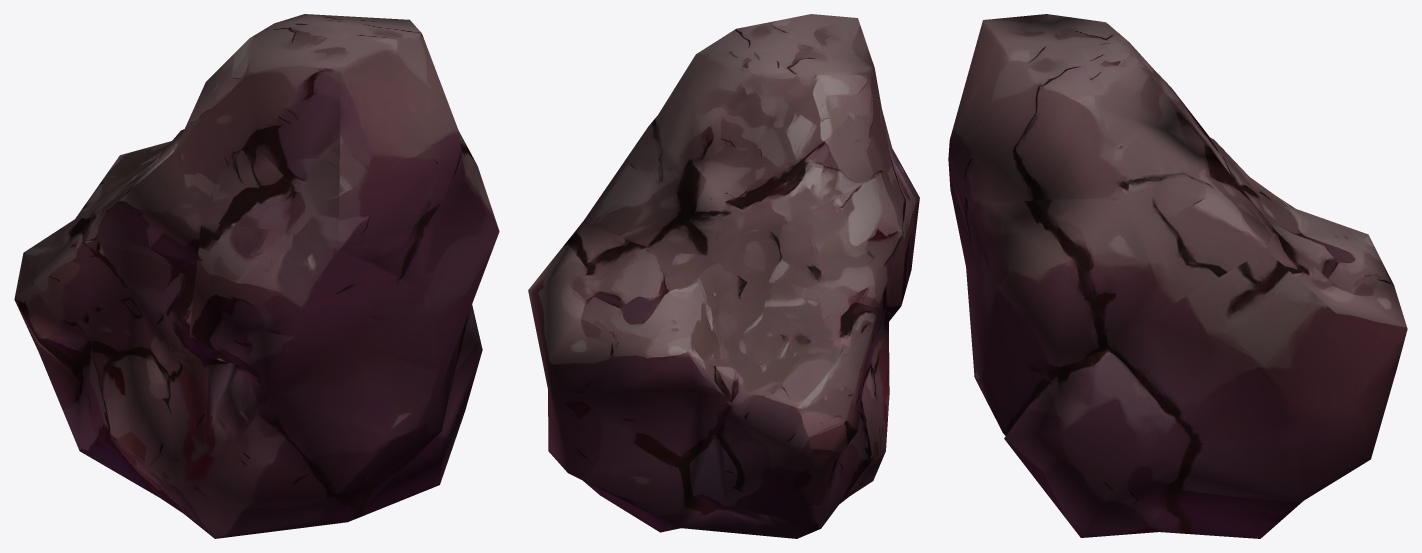
File: cave-rock.glb
The picture shows the model from 3 angles, left to right: view 1: azimuth 30°, elevation 25°; view 2: azimuth 150°, elevation 25°; view 3: azimuth 270°, elevation 25°; orthographic projection. The views are drawn at different scales.
Visible parts, largest first — view 1: tripo_node_4e585c1b-5253-4b44-b107-ec419c907297; view 2: tripo_node_4e585c1b-5253-4b44-b107-ec419c907297; view 3: tripo_node_4e585c1b-5253-4b44-b107-ec419c907297.
Boxes of the visible parts, bbox=[...] form: tripo_node_4e585c1b-5253-4b44-b107-ec419c907297: bbox=[14, 14, 499, 538]; tripo_node_4e585c1b-5253-4b44-b107-ec419c907297: bbox=[528, 14, 919, 538]; tripo_node_4e585c1b-5253-4b44-b107-ec419c907297: bbox=[948, 14, 1407, 538].
Bounding box in the file's own units: 0.8287 × 0.998 × 0.9211.
1 material, 1 textured.
